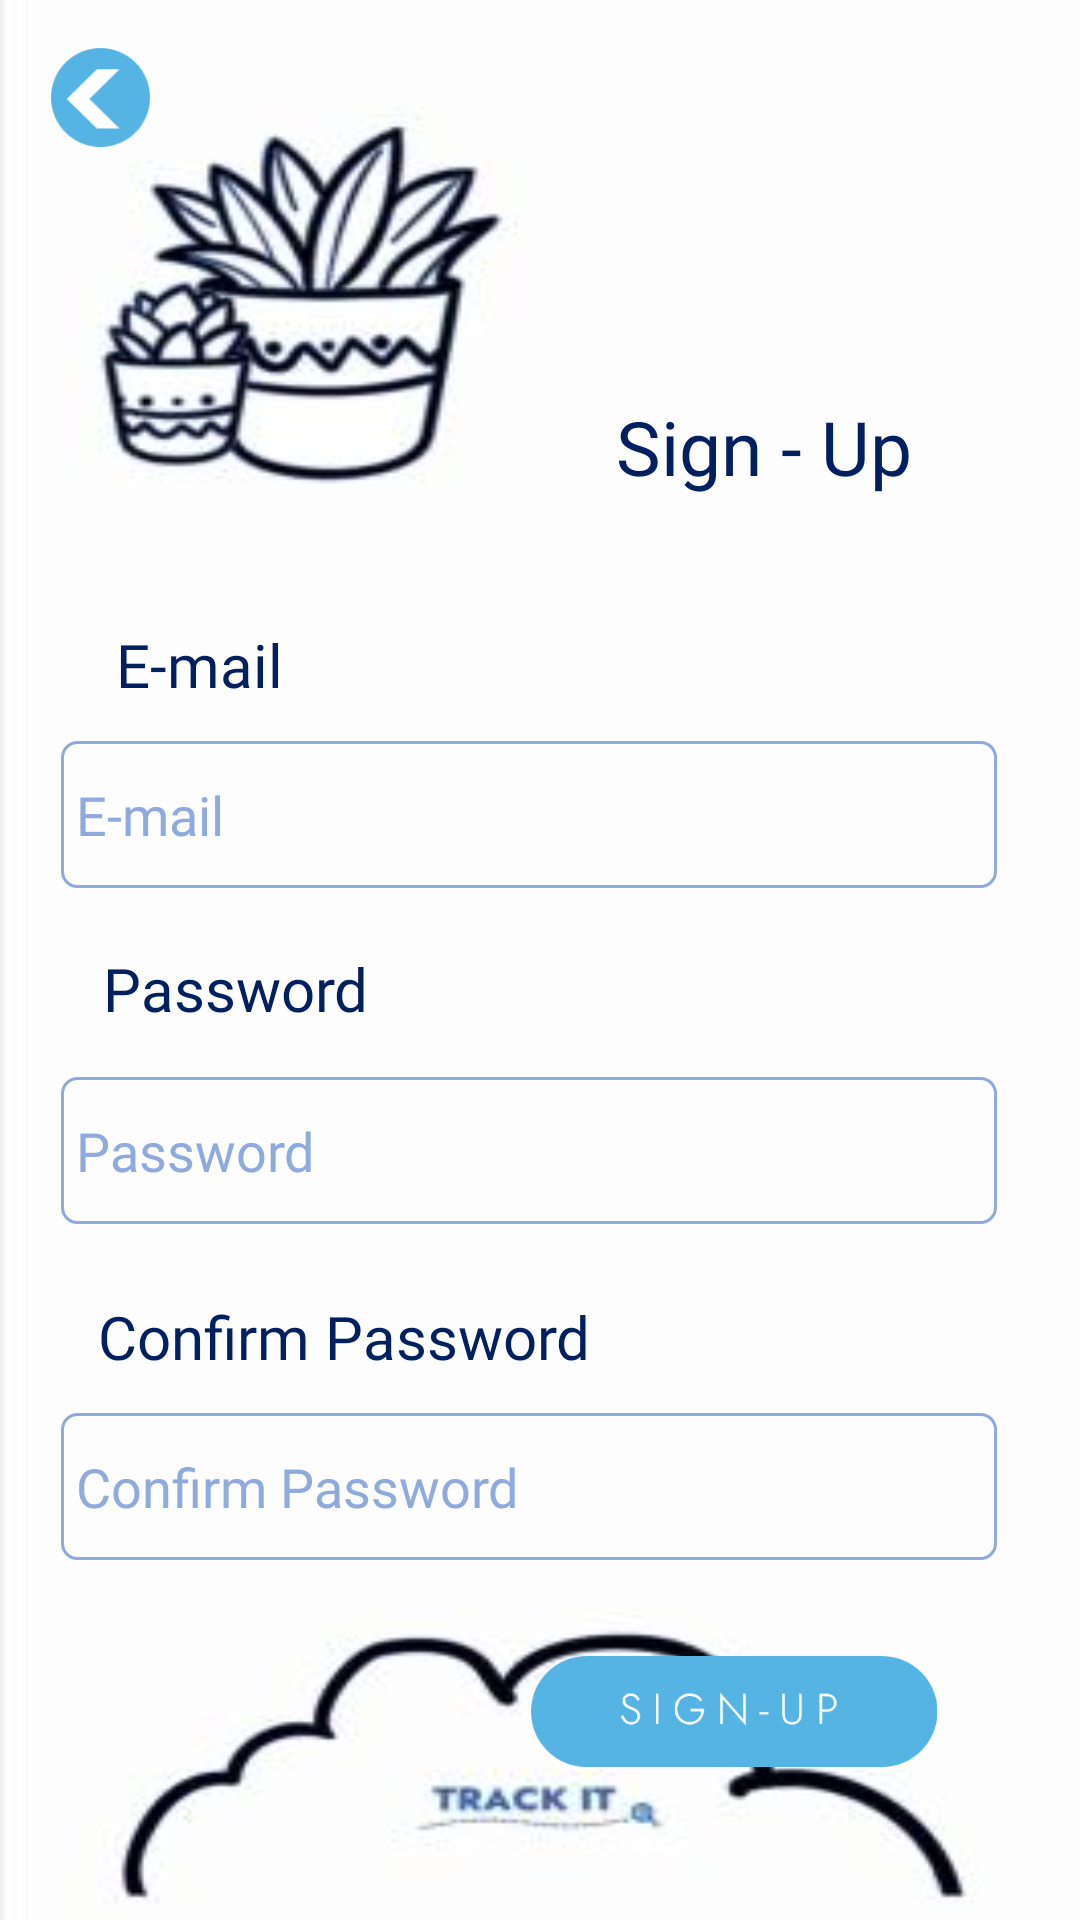

Locate icon controls on the screen. Image size 1080x1920, boxes as (x1, y1, x2, y2).
back: (51, 48, 150, 147)
